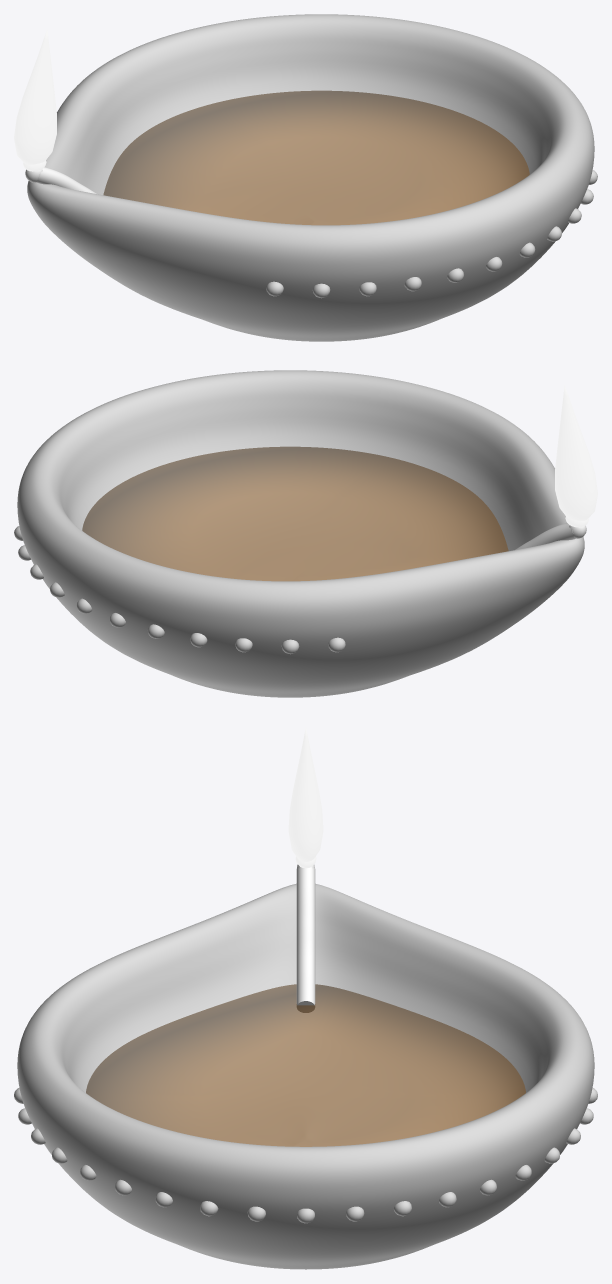
File: diya.glb
The picture shows the model from 3 angles, top to bottom: view 1: azimuth 30°, elevation 25°; view 2: azimuth 150°, elevation 25°; view 3: azimuth 270°, elevation 25°; orthographic projection. The views are drawn at different scales.
Parts seen in each view (by area): view 1: DIYA - clay bowl, Lamp oil, Flame outer, Clay bead band, Cotton wick; view 2: DIYA - clay bowl, Lamp oil, Flame outer, Clay bead band, Cotton wick; view 3: DIYA - clay bowl, Lamp oil, Clay bead band, Flame outer, Cotton wick.
Boxes of the visible parts, x1=… form: DIYA - clay bowl: x1=27, y1=14, x2=594, y2=341; Lamp oil: x1=103, y1=90, x2=529, y2=225; Flame outer: x1=14, y1=29, x2=56, y2=164; Clay bead band: x1=266, y1=170, x2=597, y2=298; Cotton wick: x1=36, y1=167, x2=96, y2=193; DIYA - clay bowl: x1=17, y1=370, x2=584, y2=697; Lamp oil: x1=82, y1=446, x2=508, y2=581; Flame outer: x1=555, y1=385, x2=597, y2=520; Clay bead band: x1=14, y1=526, x2=345, y2=654; Cotton wick: x1=515, y1=523, x2=575, y2=549; DIYA - clay bowl: x1=17, y1=883, x2=594, y2=1269; Lamp oil: x1=86, y1=984, x2=525, y2=1146; Clay bead band: x1=14, y1=1088, x2=597, y2=1223; Flame outer: x1=288, y1=727, x2=323, y2=861; Cotton wick: x1=296, y1=867, x2=315, y2=1012.
Size of the model in its own units: 2.55 by 1.42 by 2.24.
